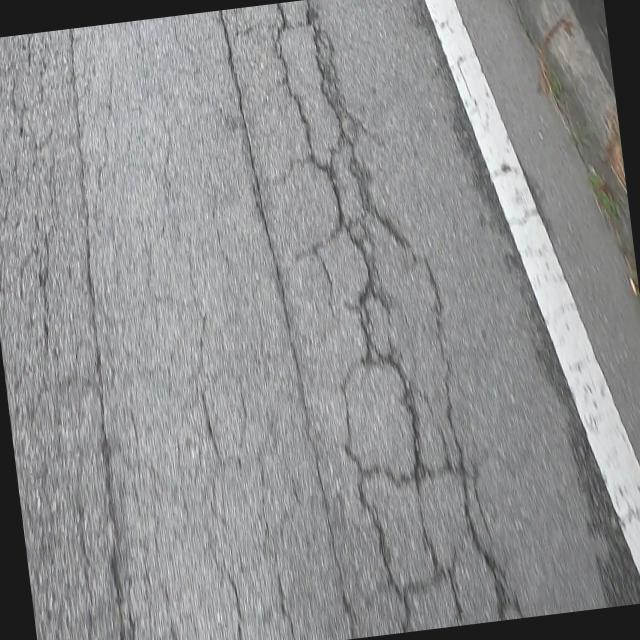Retak-Buaya: (221, 2, 518, 638), (0, 28, 130, 640)
